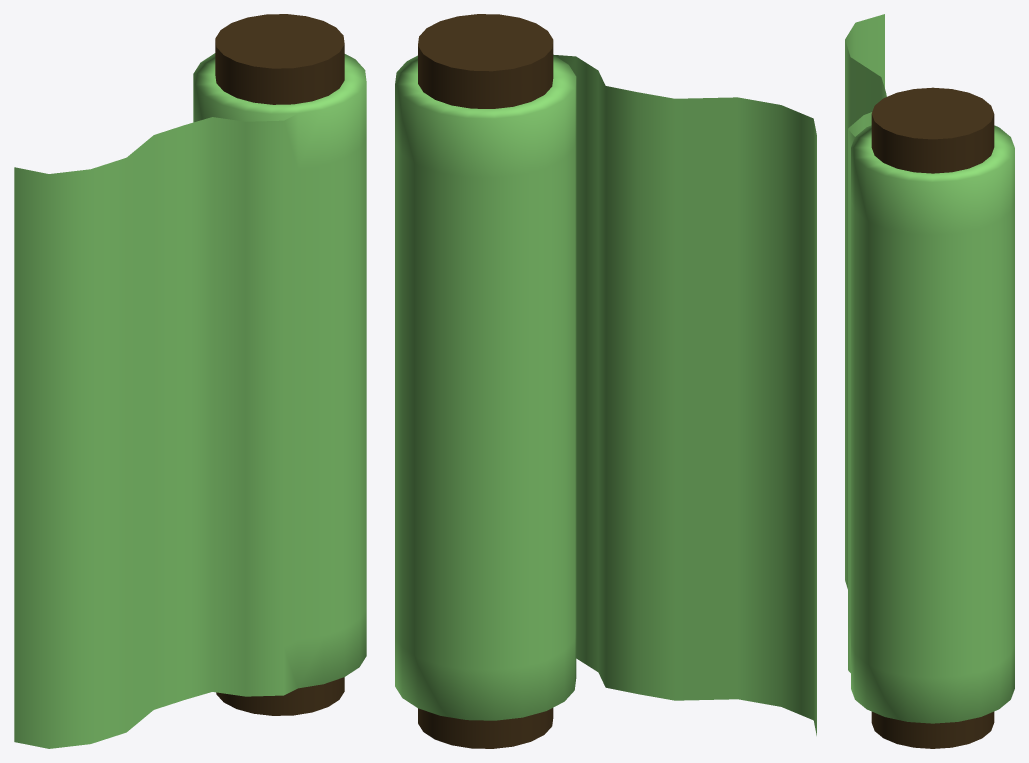
File: Silk_B.fbx
The picture shows the model from 3 angles, left to right: view 1: azimuth 30°, elevation 25°; view 2: azimuth 150°, elevation 25°; view 3: azimuth 270°, elevation 25°; orthographic projection. The views are drawn at different scales.
Visible parts, largest first — view 1: pCylinder1; view 2: pCylinder1; view 3: pCylinder1.
Part boxes in pixels (box(x1,y1,x2,y2)): pCylinder1: box(14, 14, 366, 748); pCylinder1: box(395, 14, 816, 748); pCylinder1: box(845, 14, 1014, 748).
Size of the model in its own units: 168 by 283 by 71.51.
